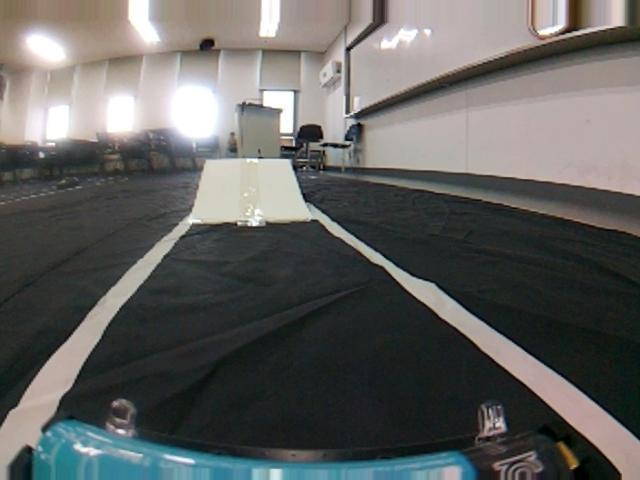hill_up: (189, 150, 323, 229)
straight: (1, 223, 640, 474)
